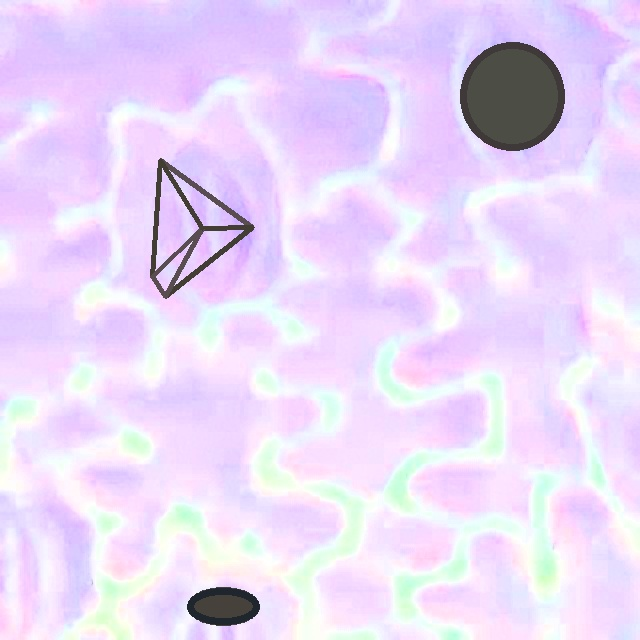open: (151, 158, 254, 298), (459, 42, 564, 150), (187, 587, 259, 624)
